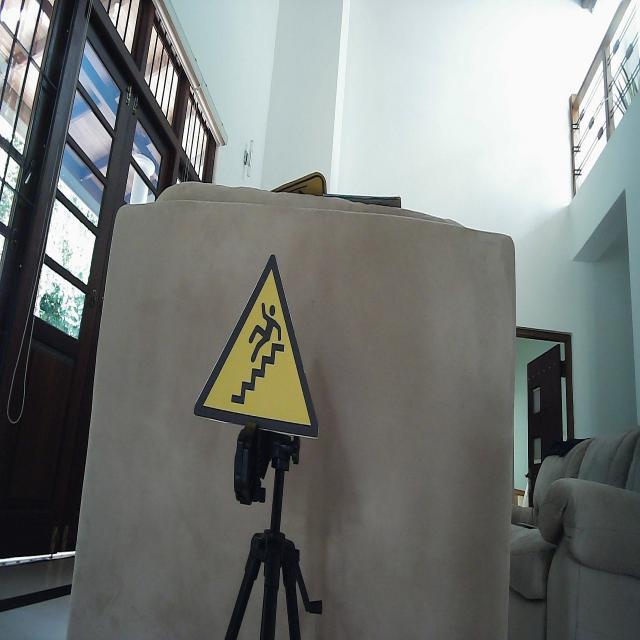stairs: (192, 249, 322, 443)
